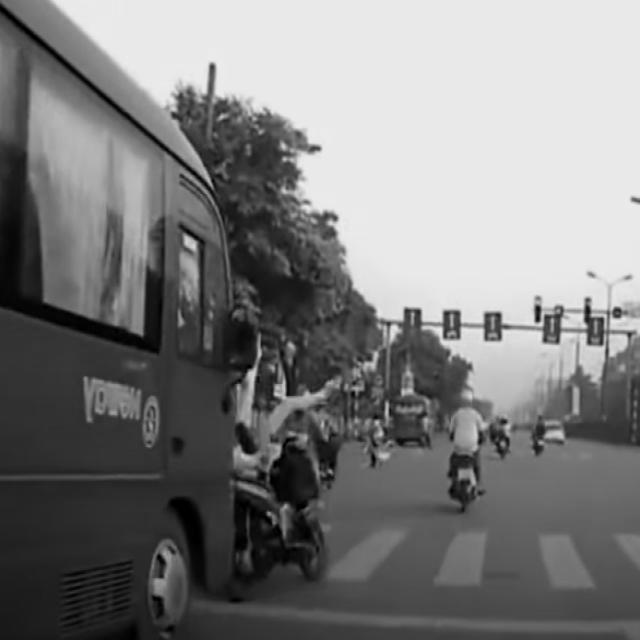accident: (0, 0, 330, 640)
non-accident: (445, 389, 513, 511), (364, 388, 434, 468), (530, 414, 566, 456)
